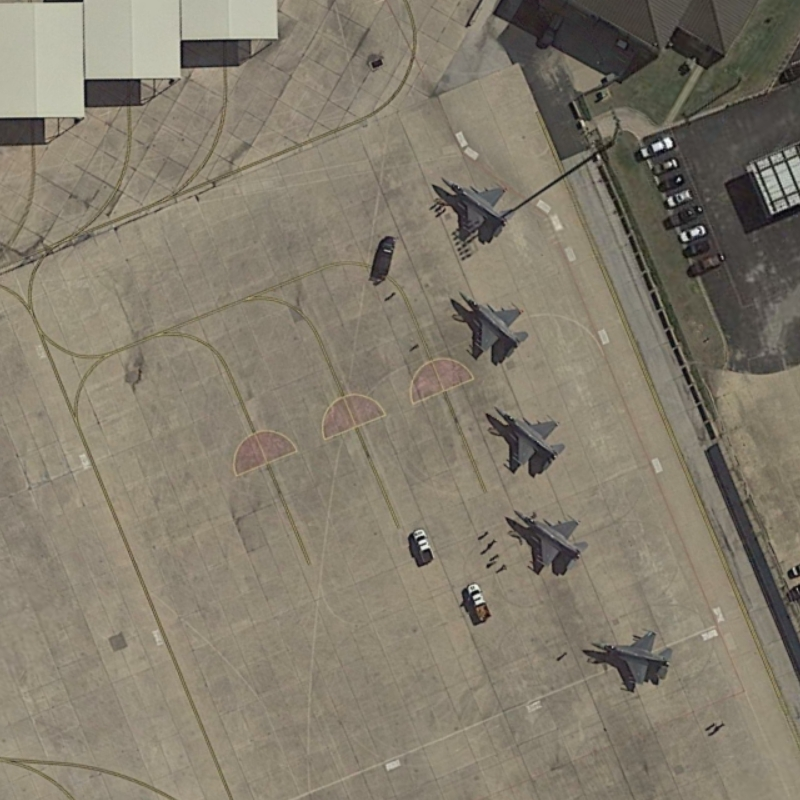A5: (485, 393, 573, 482), (587, 622, 682, 696), (435, 164, 523, 243), (454, 282, 535, 364), (507, 506, 595, 580)
